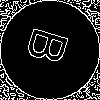B: (25, 25, 79, 70)
